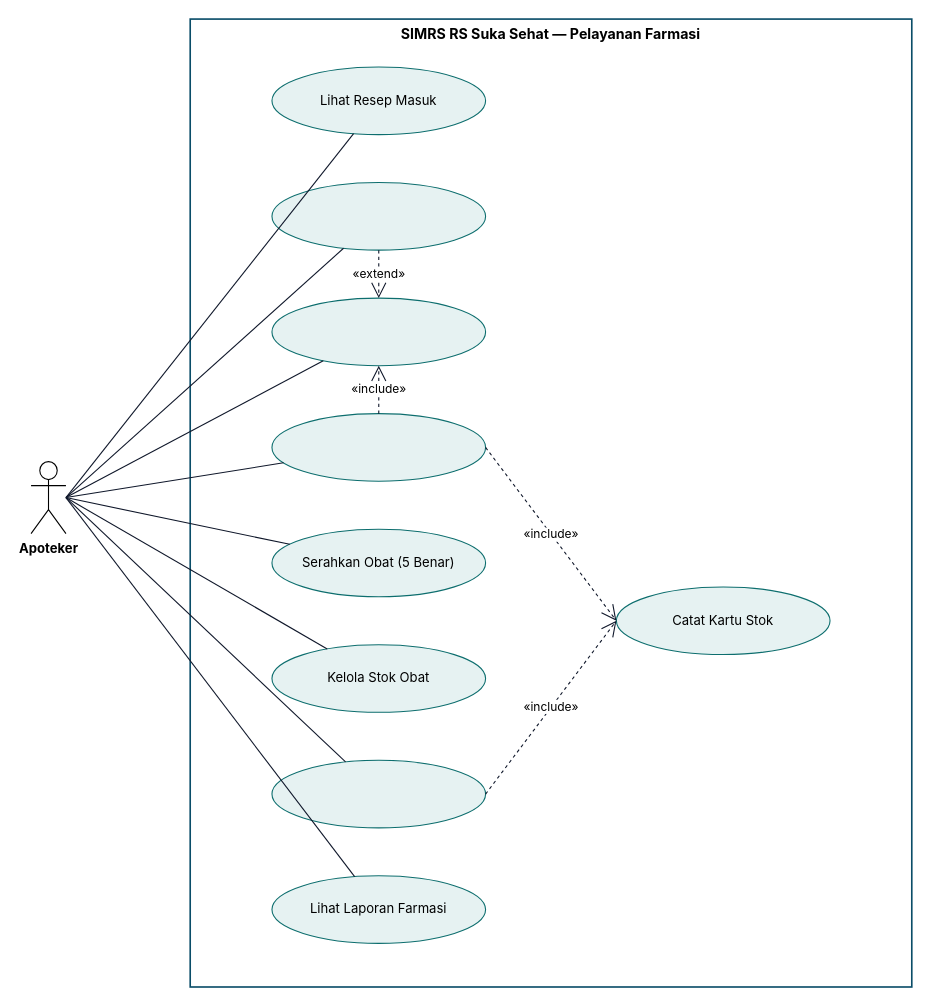
Image size: 931x1007. Some labels were removed from this diagram. Here are the shapes that lost their labels. From the top down, the centre of each, then its label:
At point (378, 215): "Tolak Resep".
At point (378, 331): "Telaah Resep".
At point (378, 447): "Dispensing Obat".
At point (378, 793): "Kelola Retur Obat".
